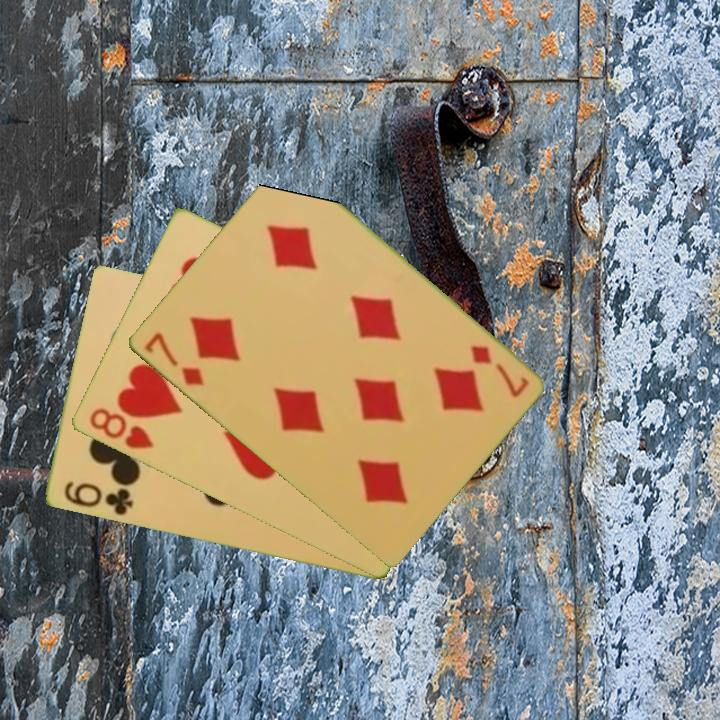6c: (60, 478, 136, 519)
7d: (140, 328, 207, 389), (466, 341, 531, 400)
8h: (85, 404, 157, 452)
